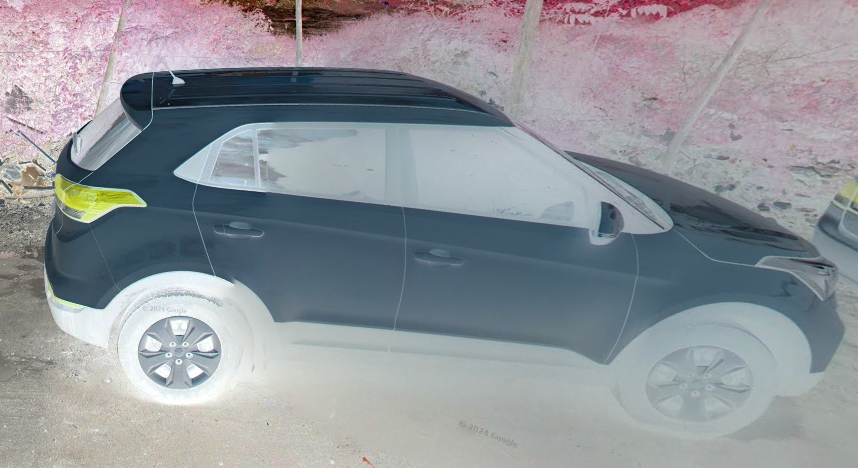car: (40, 66, 839, 449)
